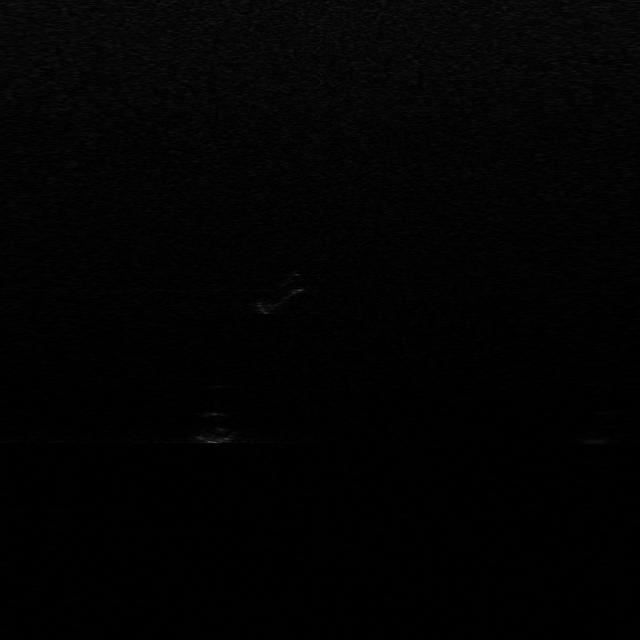ball: (187, 410, 239, 445)
tyre: (250, 272, 304, 314)
